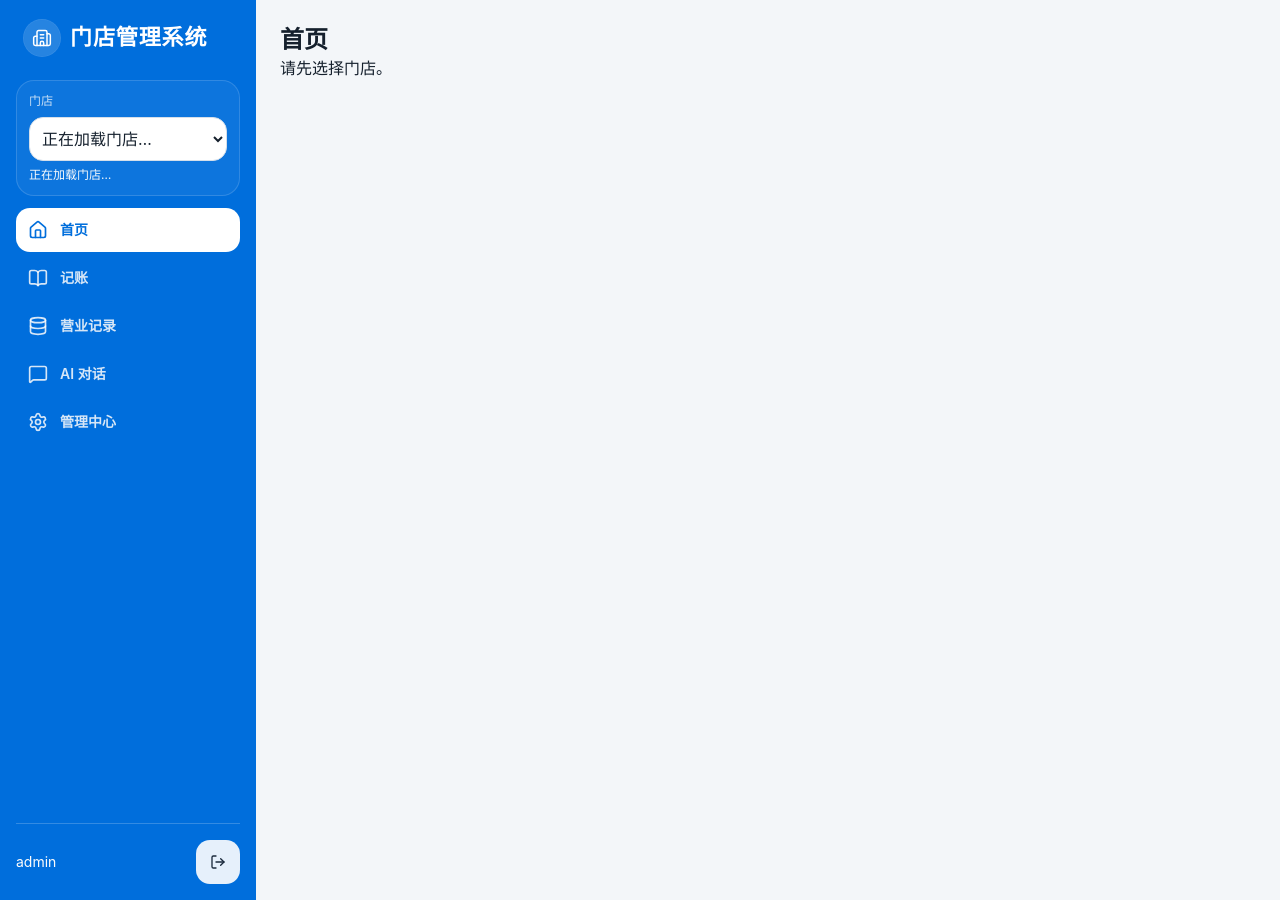
Test: authenticated application shell › logs out and returns to login
Click the button named "退出登录" at (218, 862), box [196, 840, 240, 884]
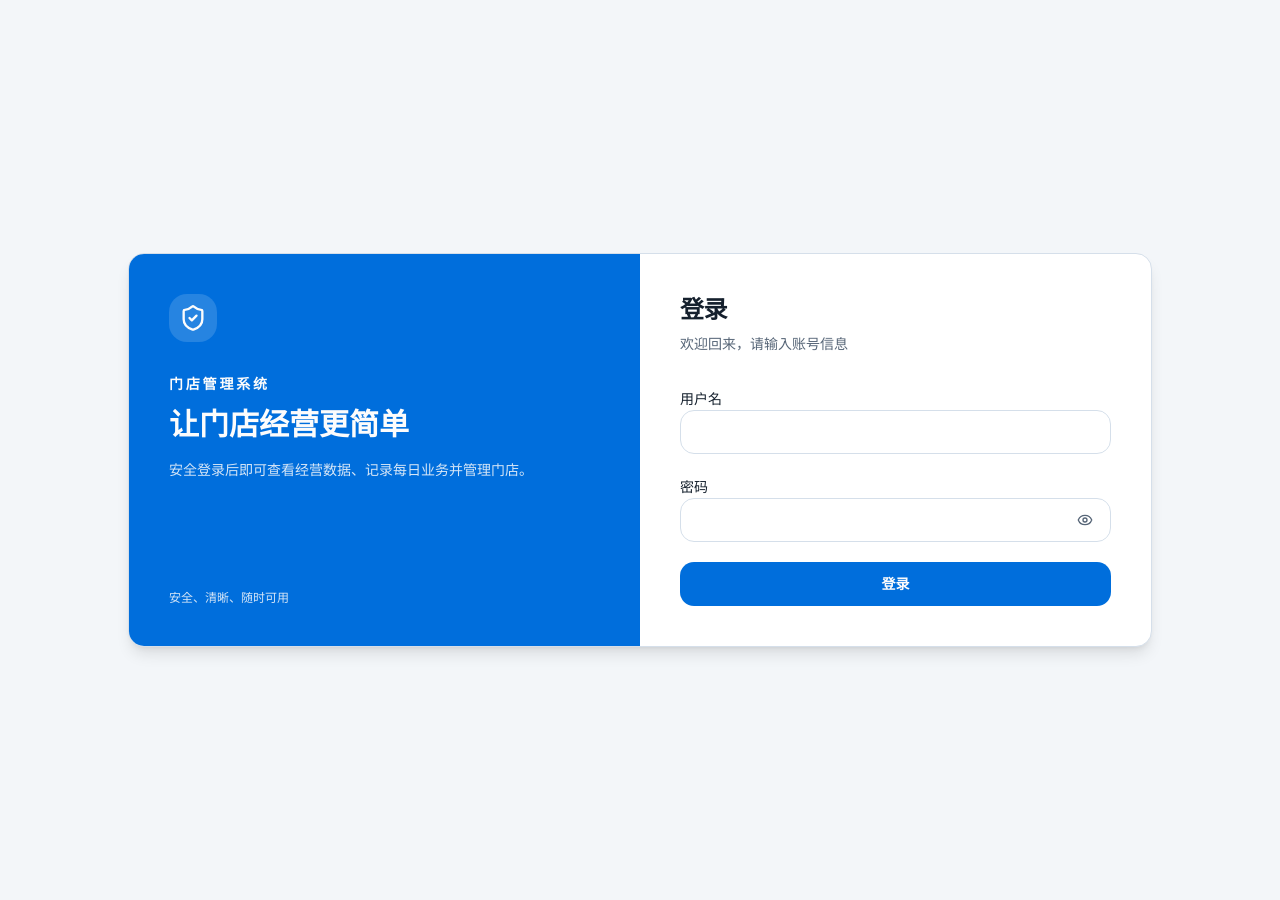
expect the heading "登录" is shown: met, box [680, 295, 727, 324]
